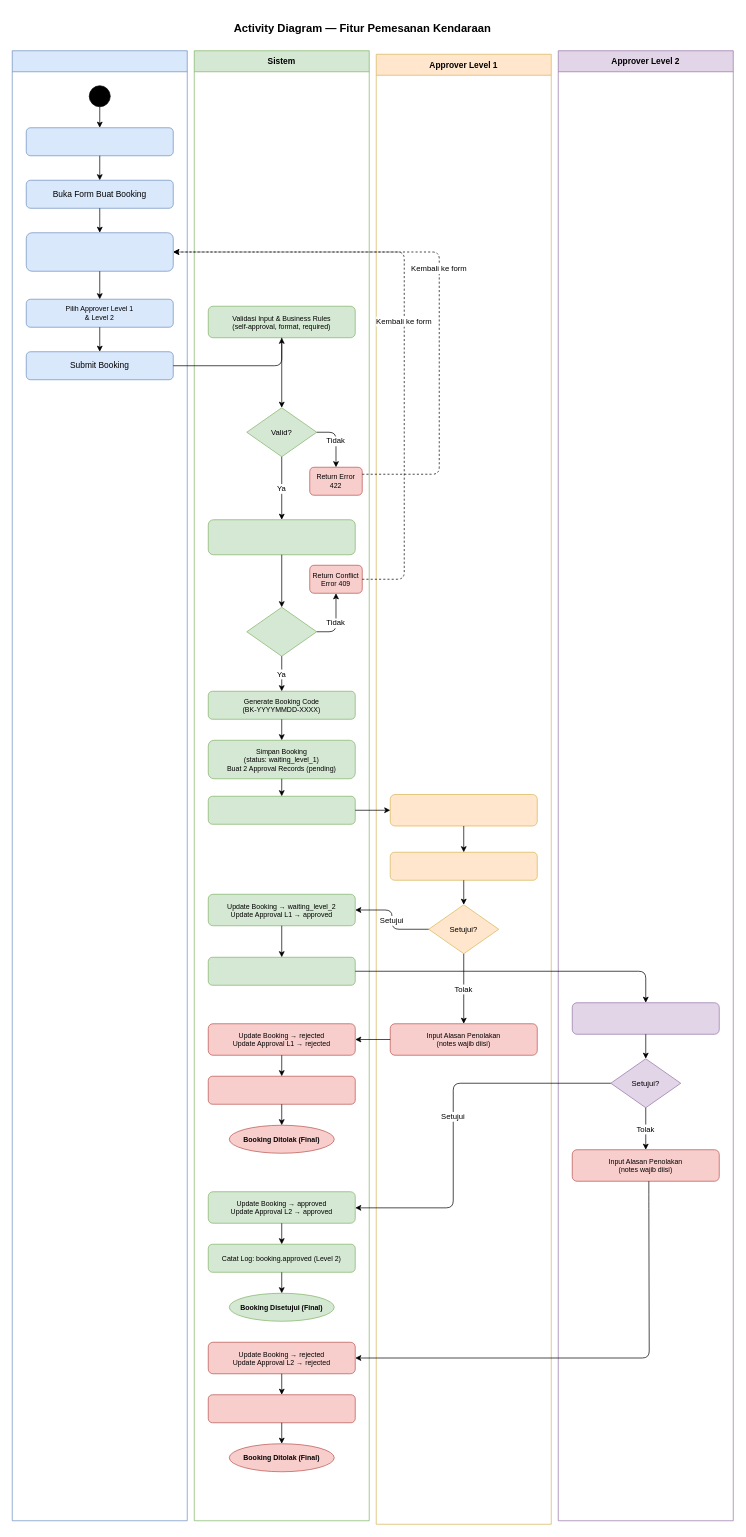
Some shapes in this 746 by 1537 pixel diagram are drawn without their labels. The shapes that lost their labels are listed below. From the top down, each one's box as (x1, y1, x2, y2) in pixels, then its label:
(26, 127, 173, 156): Login ke Aplikasi
(26, 232, 173, 271): Input Data Booking (pemohon, kendaraan, driver, tujuan, keperluan, tanggal)
(208, 519, 355, 555): Cek Ketersediaan Kendaraan & Driver (overlap check)
(246, 607, 317, 656): Tersedia?
(12, 50, 187, 1521): Admin
(208, 796, 355, 824): Catat Log: booking.created
(390, 794, 537, 826): Lihat Daftar Booking Pending (yang di-assign ke saya)
(390, 852, 537, 880): Review Detail Booking
(208, 957, 355, 985): Catat Log: booking.approved (Level 1)
(572, 1002, 719, 1034): Lihat & Review Detail Booking (status: waiting_level_2)
(208, 1076, 355, 1104): Catat Log: booking.rejected (Level 1)
(208, 1394, 355, 1423): Catat Log: booking.rejected (Level 2)
